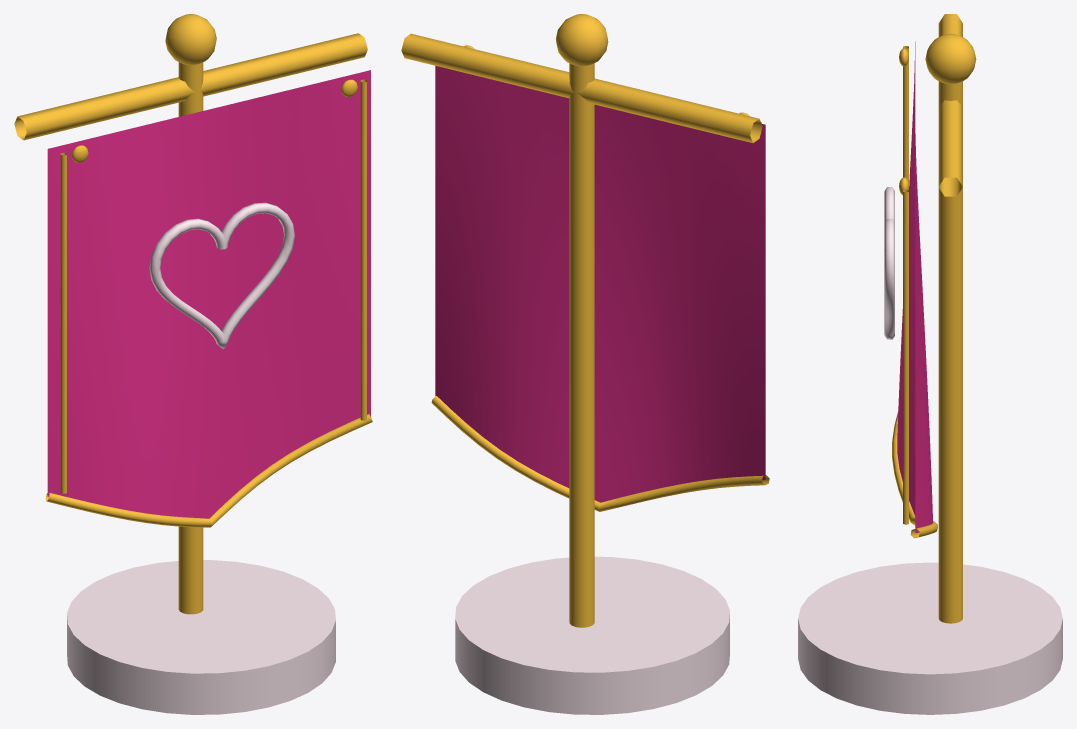
File: chess.banner.house-pink.glb
3 renders of one model, left to right at view 1: azimuth 30°, elevation 25°; view 2: azimuth 150°, elevation 25°; view 3: azimuth 270°, elevation 25°, orthographic. The views are drawn at different scales.
Visible parts, largest first — view 1: banner_cloth, banner_foot, crossbar, embroidered_crest, banner_hem, banner_pole, banner_edge_braid.001, banner_edge_braid, banner_finial; view 2: banner_cloth, banner_foot, banner_pole, crossbar, banner_hem, banner_finial; view 3: banner_foot, banner_pole, banner_cloth, crossbar, banner_finial, banner_edge_braid.001, embroidered_crest, banner_hem, banner_edge_braid.
Boxes of the visible parts, <box> form: banner_cloth: <box>47,70,370,518</box>; banner_foot: <box>67,560,335,714</box>; crossbar: <box>14,33,367,140</box>; embroidered_crest: <box>149,202,294,349</box>; banner_hem: <box>45,414,372,527</box>; banner_pole: <box>178,62,203,614</box>; banner_edge_braid.001: <box>360,79,366,420</box>; banner_edge_braid: <box>60,152,66,493</box>; banner_finial: <box>165,14,216,65</box>; banner_cloth: <box>435,66,765,502</box>; banner_foot: <box>455,556,729,714</box>; banner_pole: <box>569,63,594,627</box>; crossbar: <box>401,33,762,142</box>; banner_hem: <box>431,396,769,511</box>; banner_finial: <box>556,14,608,66</box>; banner_foot: <box>798,562,1062,714</box>; banner_pole: <box>938,81,962,623</box>; banner_cloth: <box>897,41,932,533</box>; crossbar: <box>938,14,962,196</box>; banner_finial: <box>925,33,976,83</box>; banner_edge_braid.001: <box>903,189,908,524</box>; embroidered_crest: <box>884,187,894,339</box>; banner_hem: <box>892,411,937,538</box>; banner_edge_braid: <box>903,46,908,189</box>.
Size of the model in its own units: 0.4222 by 0.75 by 0.2889.
